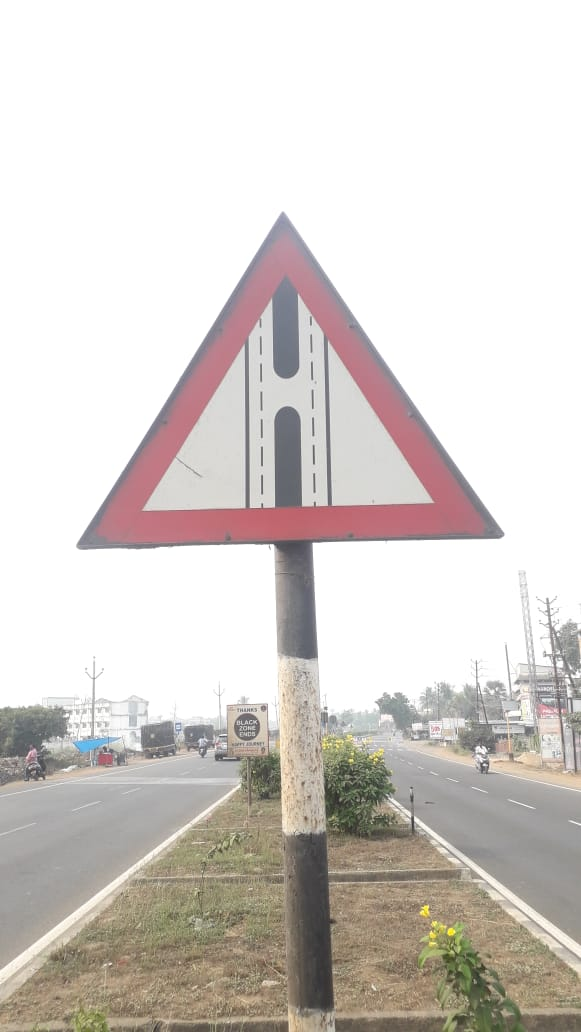highway go straight: (65, 196, 513, 599)
